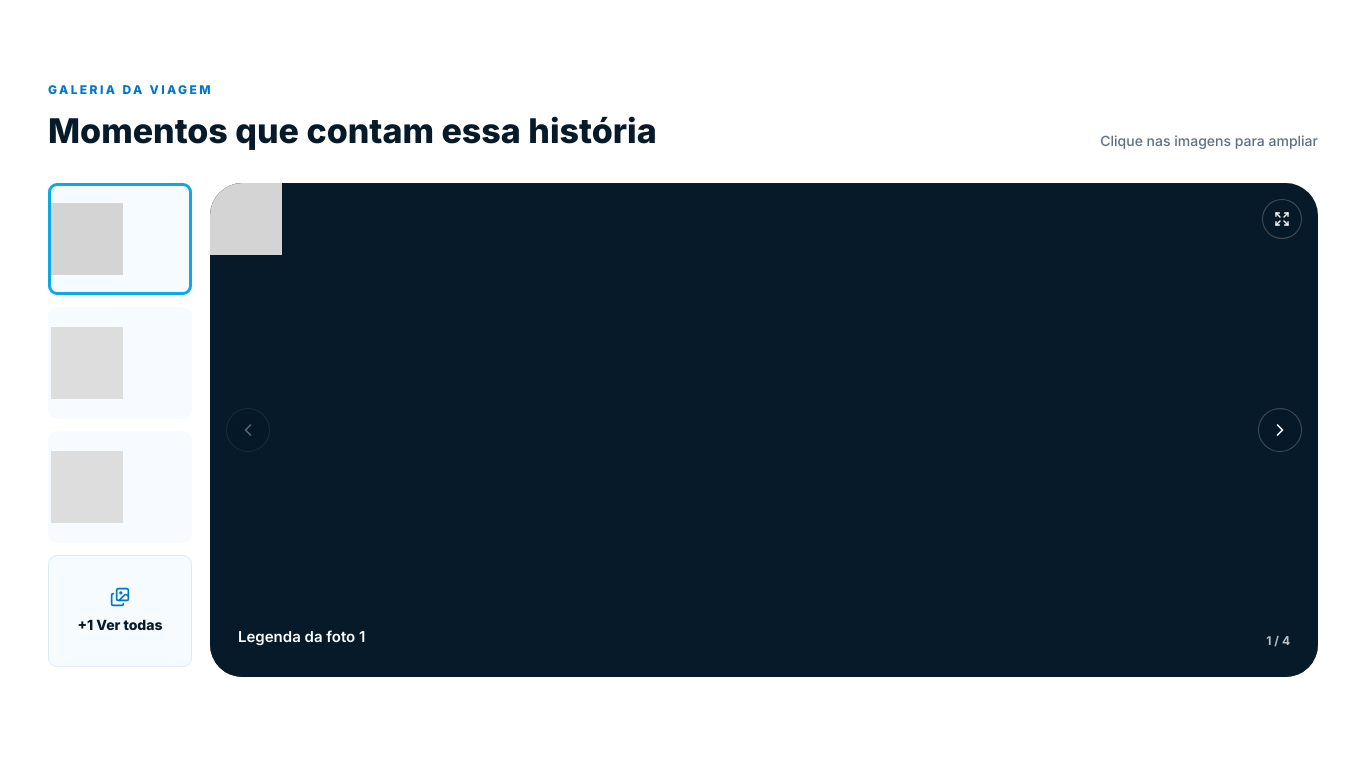
BlogPhotoGallery › abre no índice clicado e mantém limites de navegação
The image size is (1366, 768).
Click the button named "Abrir foto 2 em tela cheia" at (120, 364), box 48,308 -> 192,420
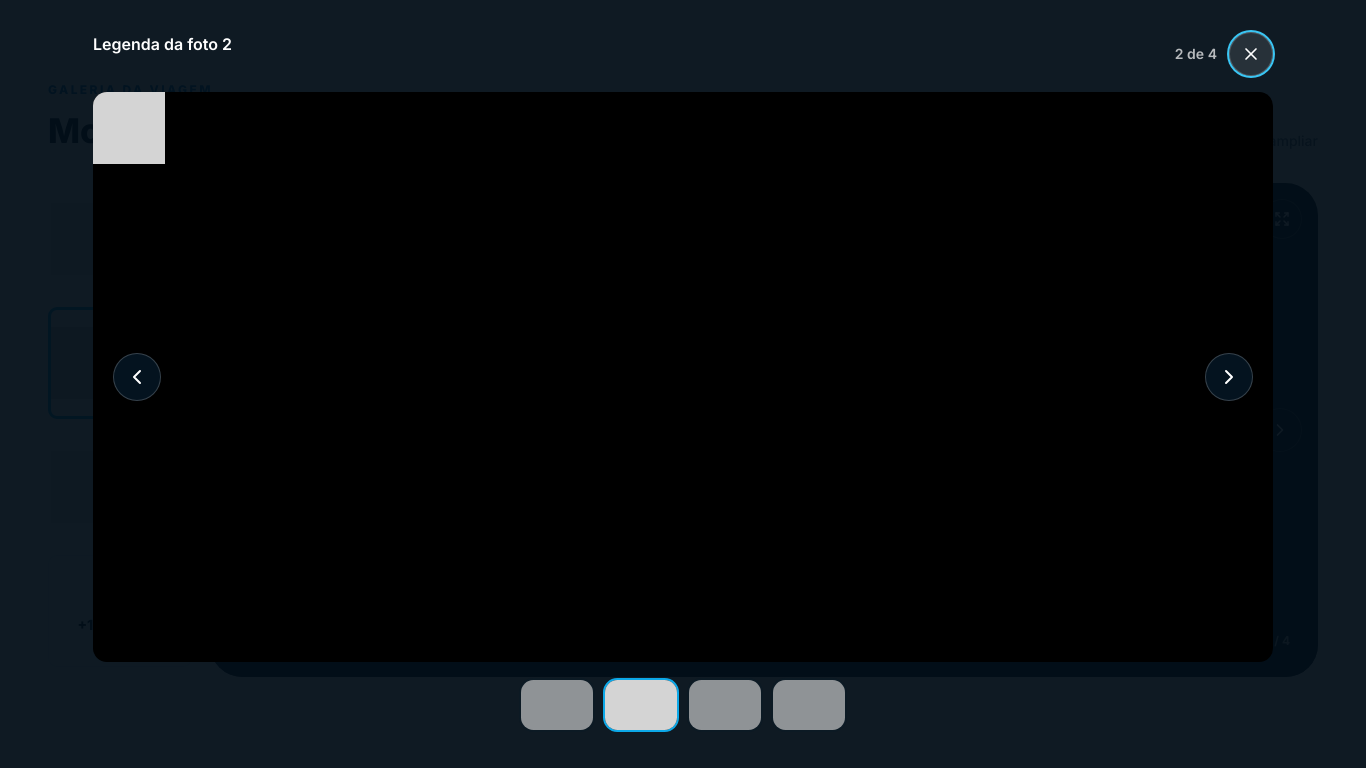
Check: the dialog is shown
Press End
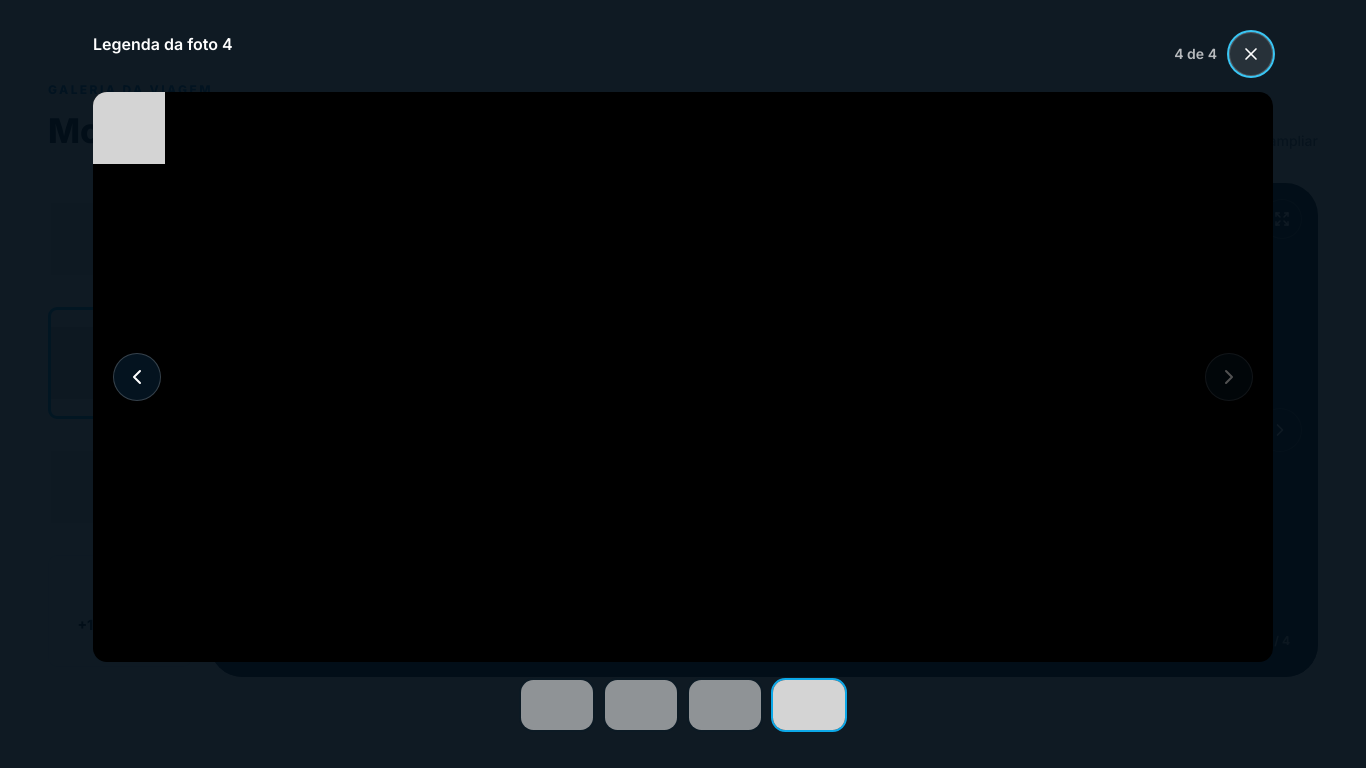
Check: the button named "Próxima foto" is disabled, box 1205,353 -> 1253,401
Press Home
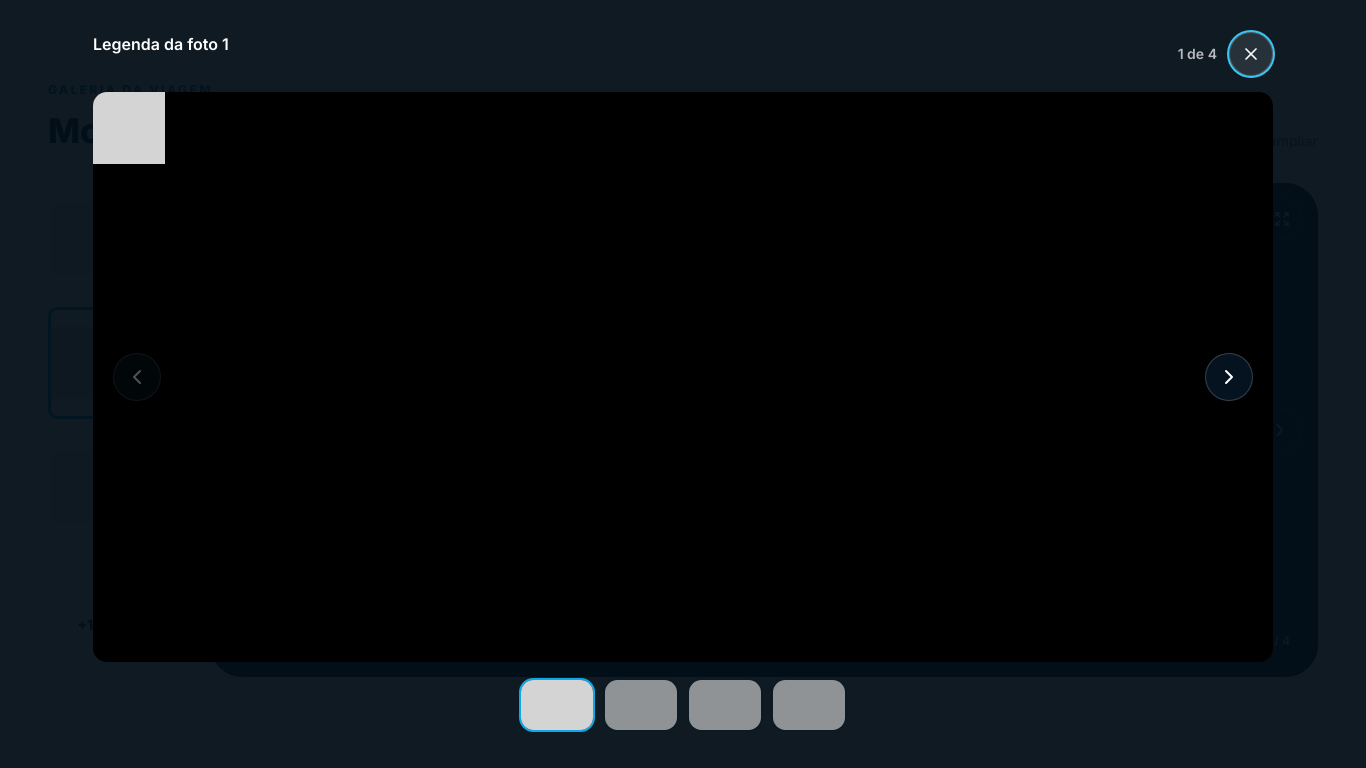
Check: the button named "Foto anterior" is disabled, box 113,353 -> 161,401
Press Escape
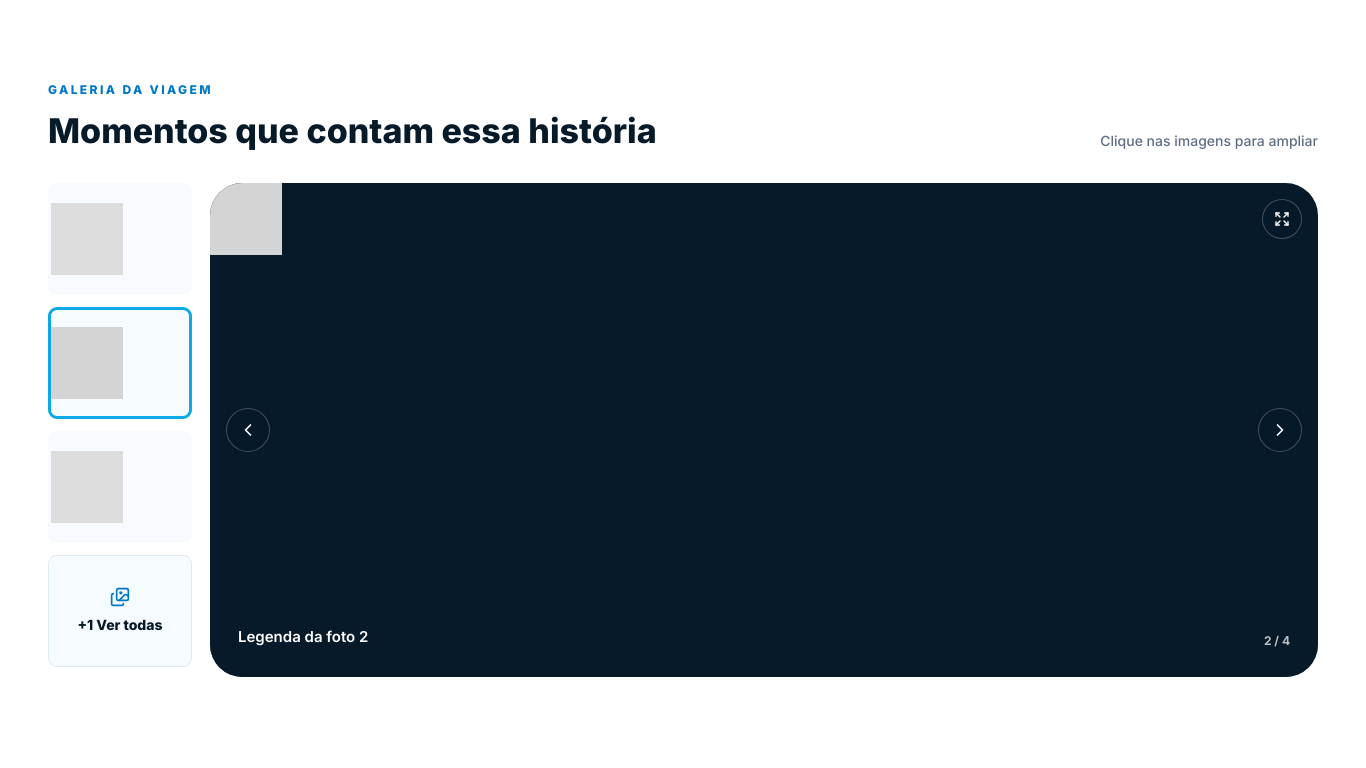
Check: the dialog is gone
